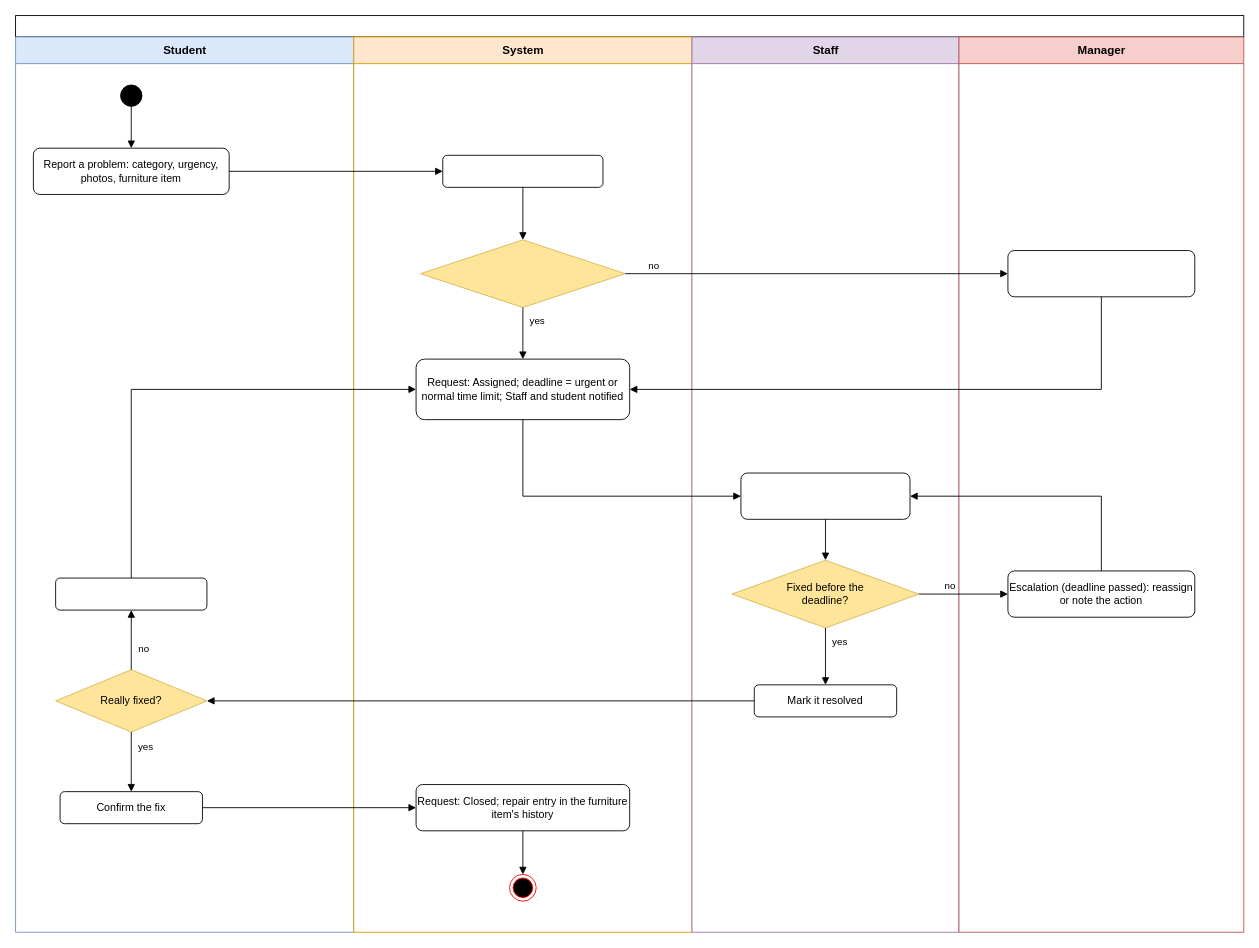
Some shapes in this 1259 by 948 pixel diagram are drawn without their labels. Here are the shapes that lost their labels. From the top down, the centre of each, then its label:
the point at 629,26: WF-04 Requests and maintenance with routing and time limits
the point at 522,170: Request: Submitted
the point at 522,273: Routing rule finds on-duty Staff?
the point at 1101,273: Escalation (unassigned too long): assign Staff
the point at 825,495: Start the work (In progress)
the point at 131,593: Reopen: not fixed yet
